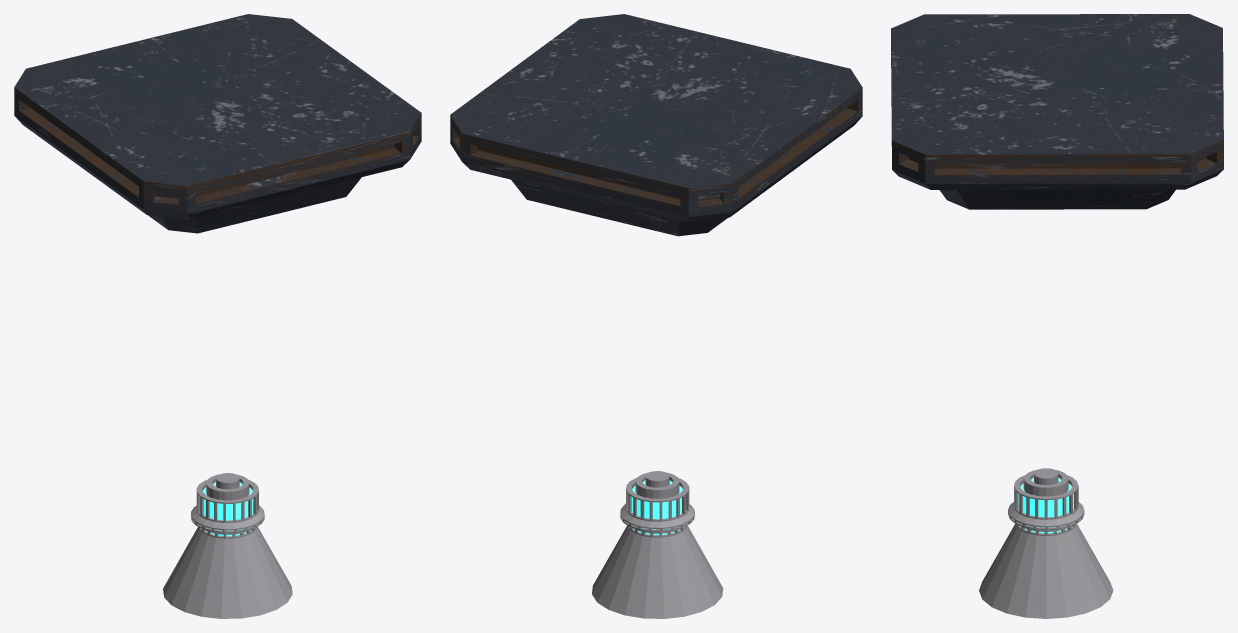
File: center element.glb
The picture shows the model from 3 angles, left to right: view 1: azimuth 30°, elevation 25°; view 2: azimuth 150°, elevation 25°; view 3: azimuth 270°, elevation 25°; orthographic projection. The views are drawn at different scales.
Parts seen in each view (by area): view 1: Object_7.001; view 2: Object_7.001; view 3: Object_7.001.
Boxes of the visible parts, x1,y1,x2,y2 form: Object_7.001: (14,14,421,618); Object_7.001: (450,14,862,618); Object_7.001: (891,14,1223,618).
Size of the model in its own units: 3.01 by 5.03 by 3.01.
Materials: 4 (4 with a texture image).
